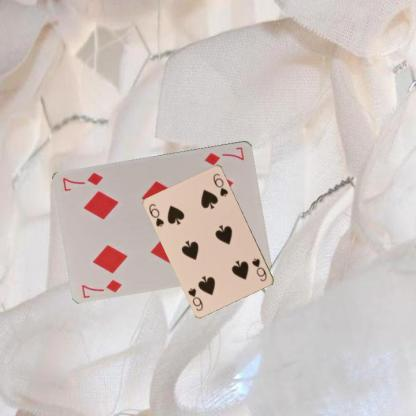6s: (147, 201, 165, 228), (250, 256, 268, 282)
7d: (202, 144, 246, 166), (79, 276, 123, 298)
